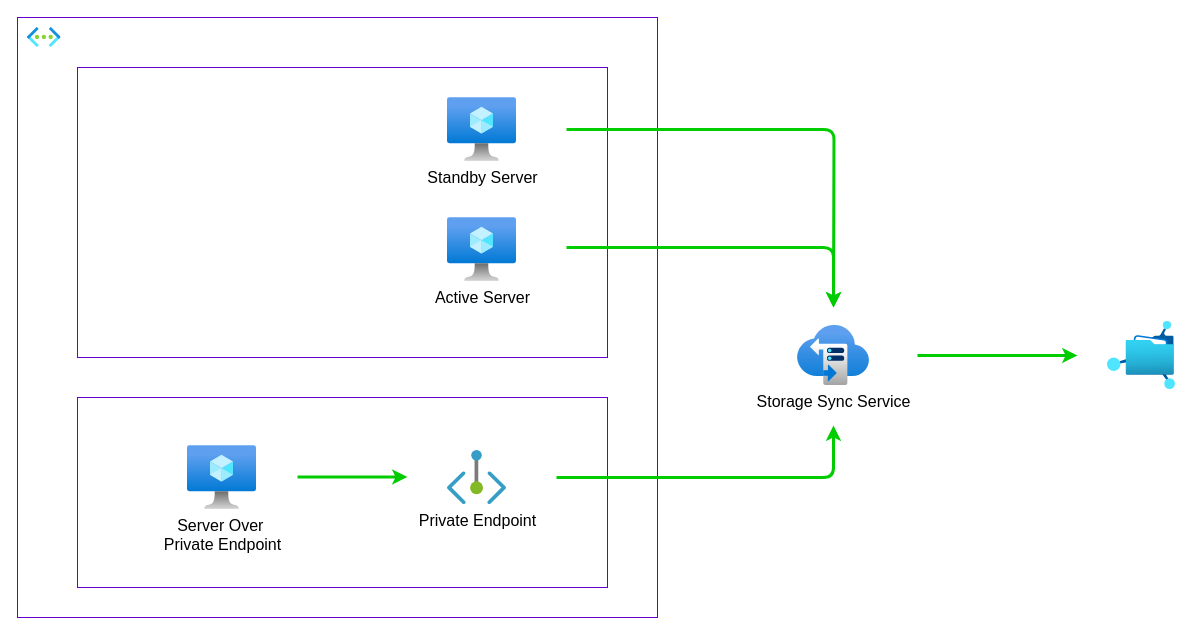
Image size: 1199x635. Some labels were removed from this diagram. Here are the shapes that lost their labels. From the top down, the box of each, then its label:
(27, 27, 60, 47): VNet
(1107, 321, 1175, 389): Azure Files
